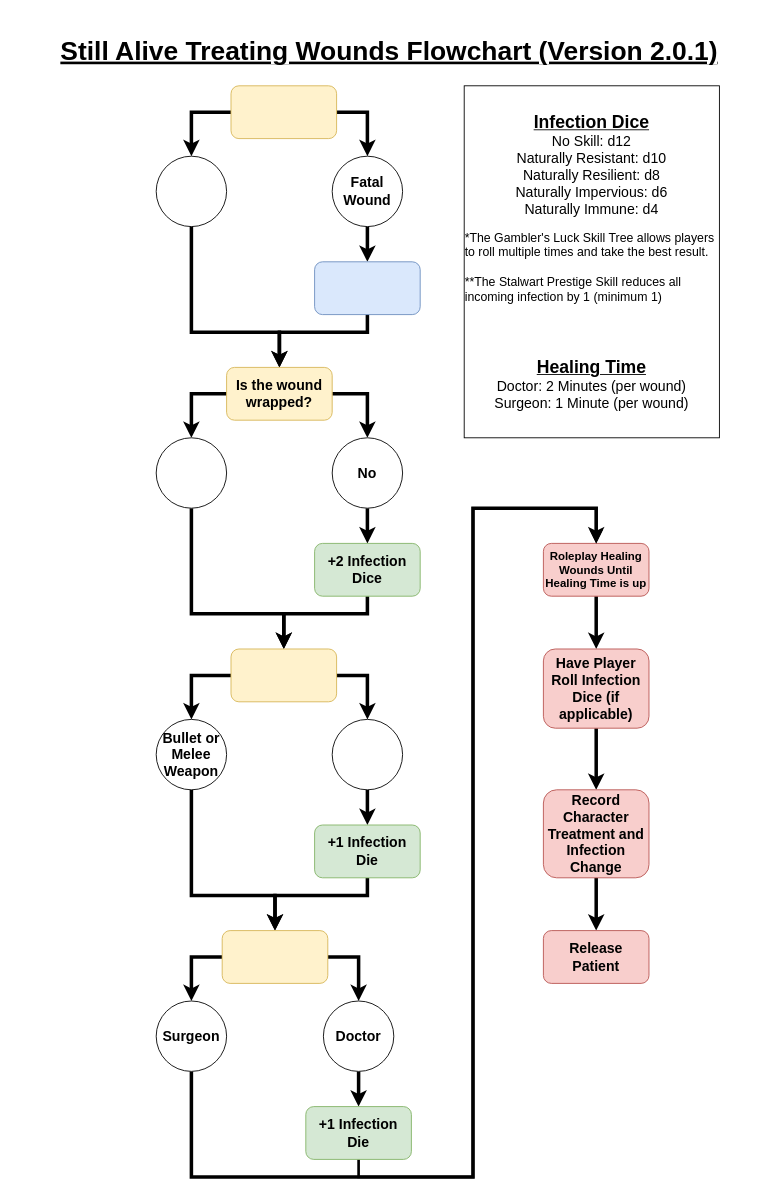
Some shapes in this 778 by 1200 pixel diagram are drawn without their labels. The shapes that lost their labels are listed below. From the top down, each one's box as (x1, y1, x2, y2) in pixels, then its label:
(230, 85, 337, 139): Wound Type?
(155, 155, 227, 227): Wound
(314, 261, 420, 315): Double Healing Time
(155, 437, 227, 508): Yes
(230, 648, 337, 702): Wound Source?
(331, 719, 403, 790): Zombie
(221, 930, 328, 983): Your Skill Level?
